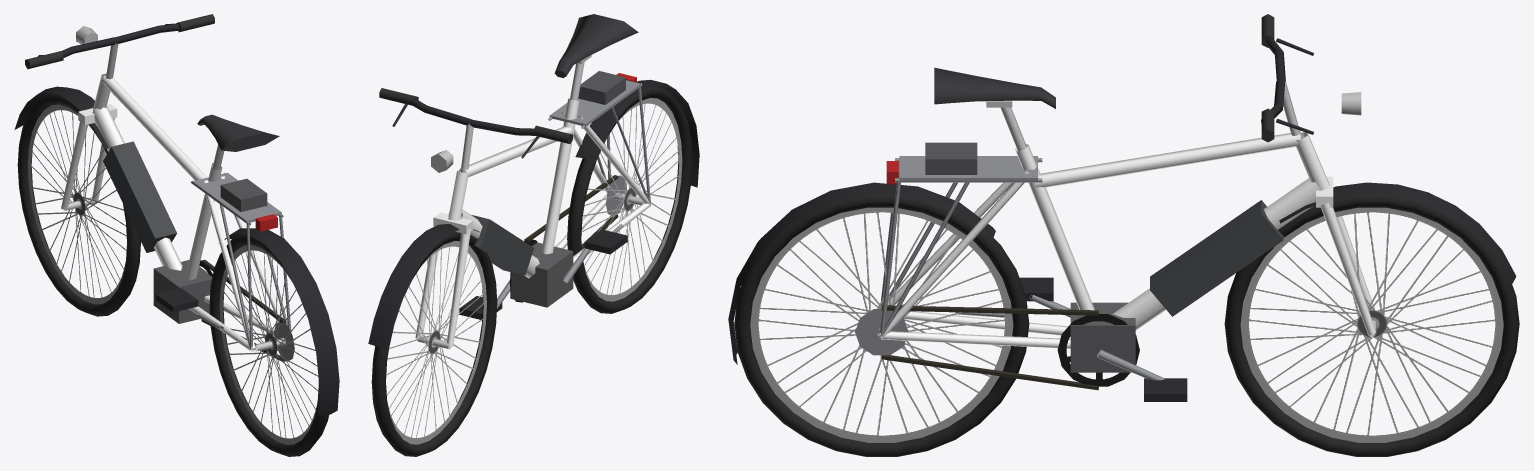
File: ebike.glb
3 views of the same model, side by side, from view 1: azimuth 30°, elevation 25°; view 2: azimuth 150°, elevation 25°; view 3: azimuth 270°, elevation 25° (orthographic). The views are drawn at different scales.
Visible parts, largest first — view 1: bike; view 2: bike; view 3: bike.
Part boxes in pixels (x1,y1,x2,y2): bike: (14,14,339,456); bike: (368,14,699,456); bike: (728,14,1519,456).
Bounding box in the file's own units: 0.63 × 0.9796 × 1.82.
Materials: 1 (1 with a texture image).
